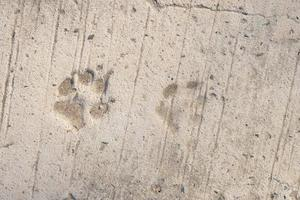chien: (53, 68, 116, 131)
